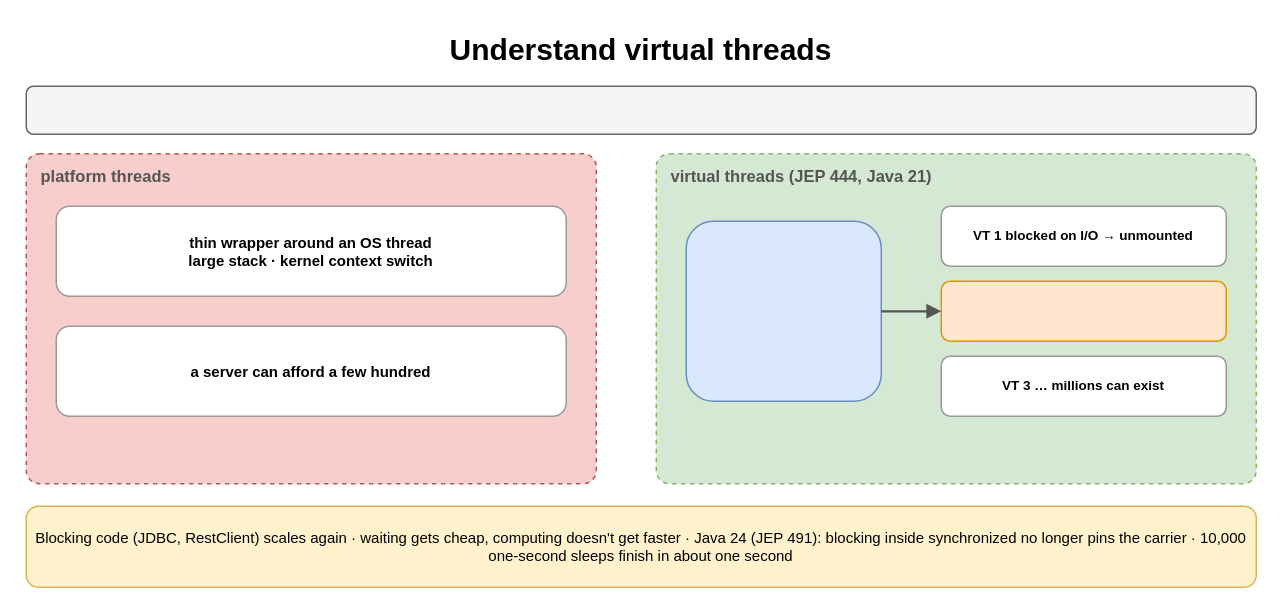
This 1283x614 diagram has some shape labels left out. Here are the shapes that lost their labels. From the top down, the centre of each, then its label:
At (640,109): "A blocked virtual thread unmounts, and its carrier runs another one".
At (783,310): "carrier platform thread".
At (1083,310): "VT 2 mounted, running".
